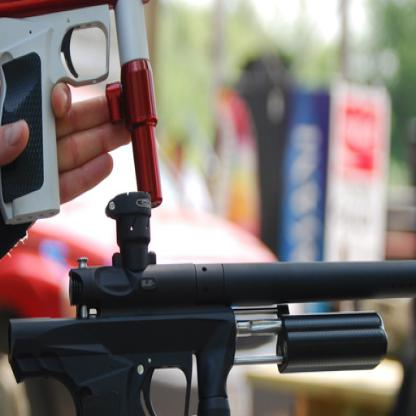gun: (0, 0, 412, 229), (7, 191, 415, 415)
